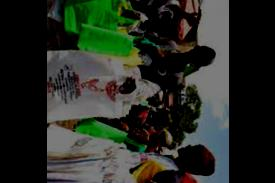Plastic: (47, 46, 122, 130), (47, 125, 143, 182), (60, 0, 135, 50)
